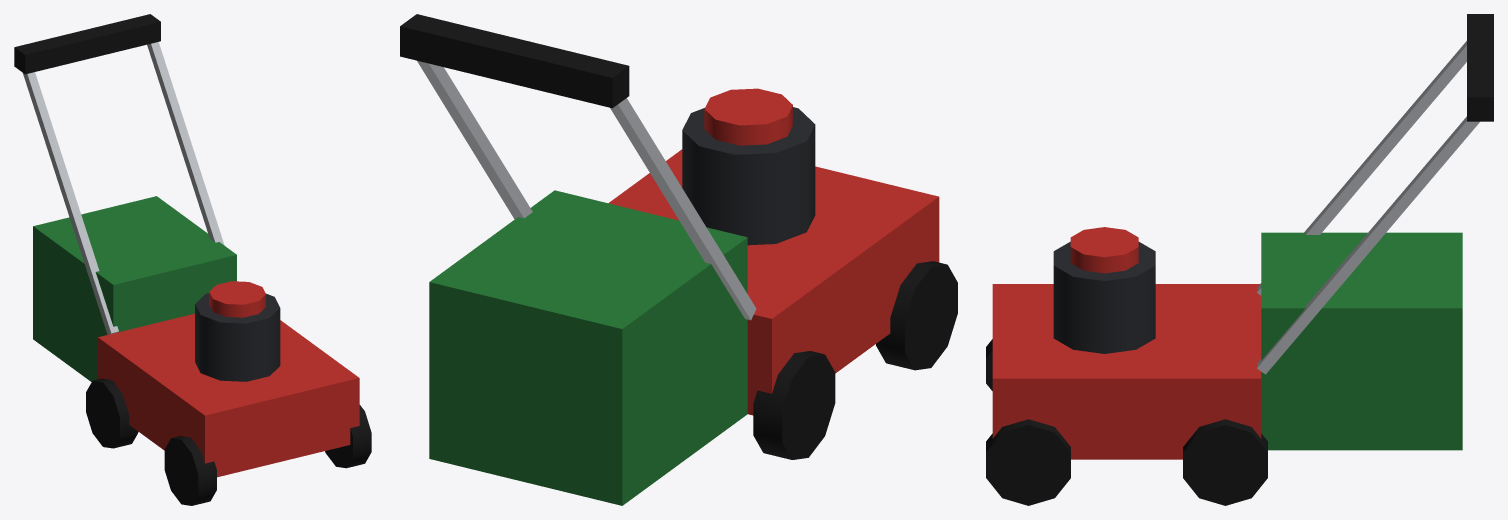
File: sb_lawnmower.glb
3 views of the same model, side by side, from view 1: azimuth 30°, elevation 25°; view 2: azimuth 150°, elevation 25°; view 3: azimuth 270°, elevation 25° (orthographic). The views are drawn at different scales.
Visible parts, largest first — view 1: sb_lawnmower; view 2: sb_lawnmower; view 3: sb_lawnmower.
Part boxes in pixels (x1,y1,x2,y2): sb_lawnmower: (14, 14, 371, 505); sb_lawnmower: (400, 14, 957, 505); sb_lawnmower: (986, 14, 1493, 505).
Bounding box in the file's own units: 0.56 × 0.98 × 1.14.
